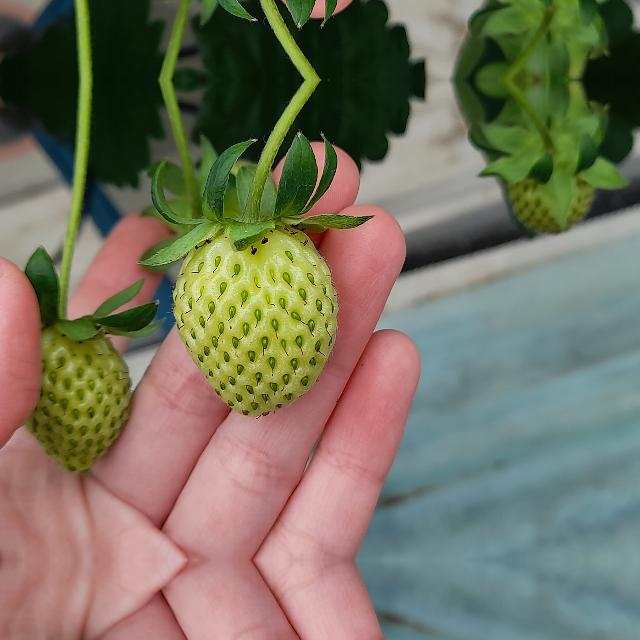Health_25: (172, 225, 338, 417), (19, 314, 131, 470)
